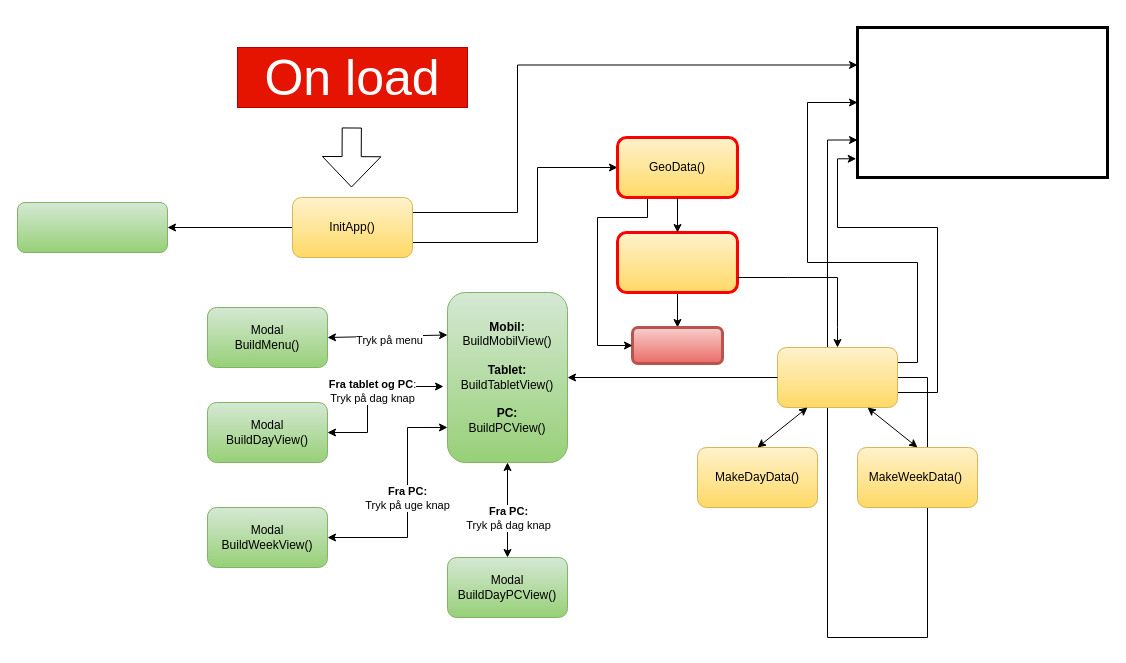
This 1126x663 diagram has some shape labels left out. Here are the shapes that lost their labels. From the top down, the centre of each, then its label:
At [982,102]: "Globale variabler MyApp (HTML) DayData WeekData CurrentViewTime".
At [92,227]: "BuildLoadingScreen()".
At [677,262]: "FectchData()".
At [677,345]: "ErrorView()".
At [837,377]: "DataConversion()".
